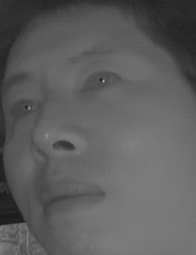eye: (76, 67, 124, 98), (5, 94, 44, 123)
mouth: (31, 175, 108, 226)
